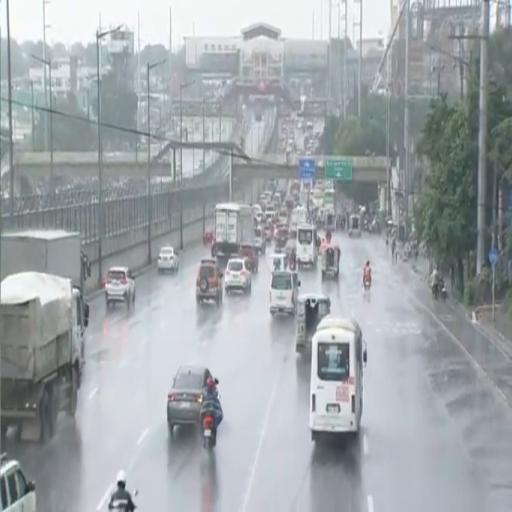car: (167, 365, 218, 434), (0, 454, 36, 511), (270, 270, 300, 315), (196, 260, 223, 307), (105, 267, 135, 308), (224, 257, 252, 293), (158, 246, 179, 273)
motorcycle: (203, 414, 215, 451), (438, 278, 448, 301), (109, 502, 127, 511), (432, 283, 439, 299), (364, 280, 371, 291)
truck: (0, 271, 88, 441), (0, 230, 91, 318), (212, 203, 254, 258), (290, 206, 308, 237)
